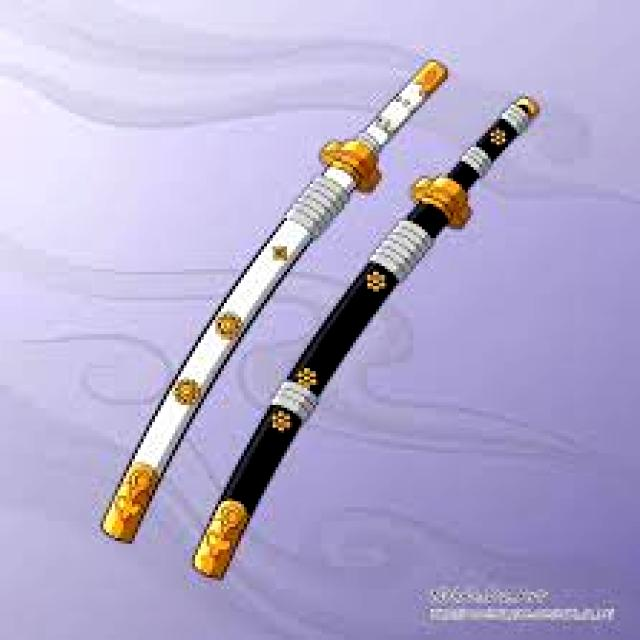long sword: (190, 25, 539, 594), (100, 55, 453, 522)
